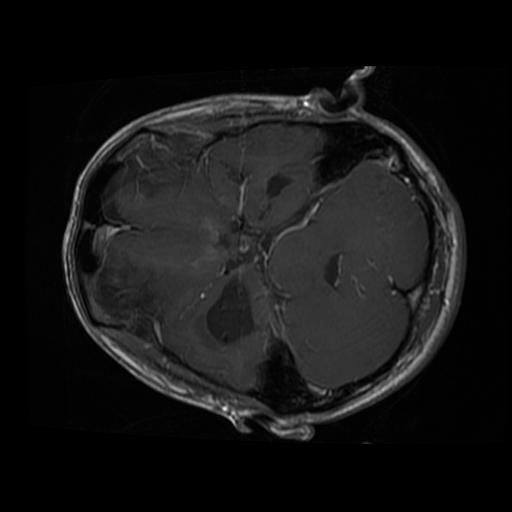glioma: (203, 274, 256, 345)
